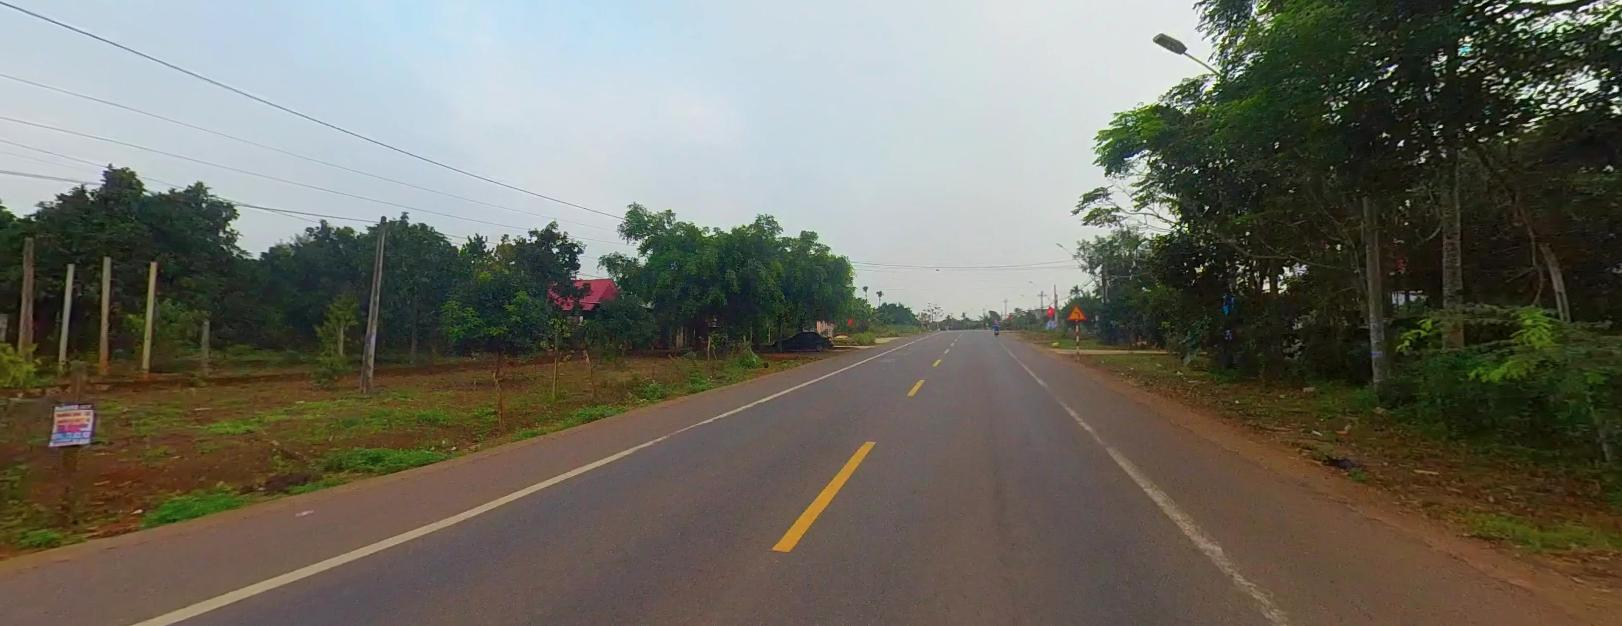Nguy hiem: (1067, 302, 1086, 318), (1067, 304, 1085, 318)
